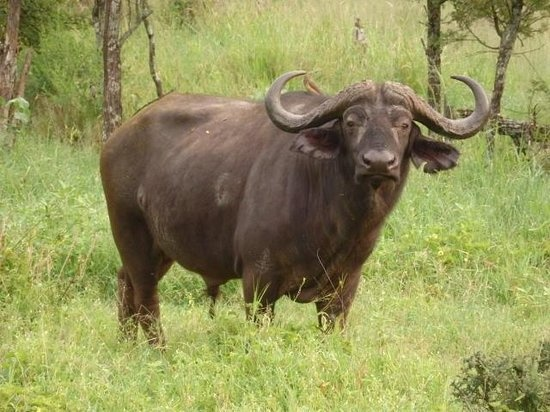buffalo: (94, 74, 494, 335)
